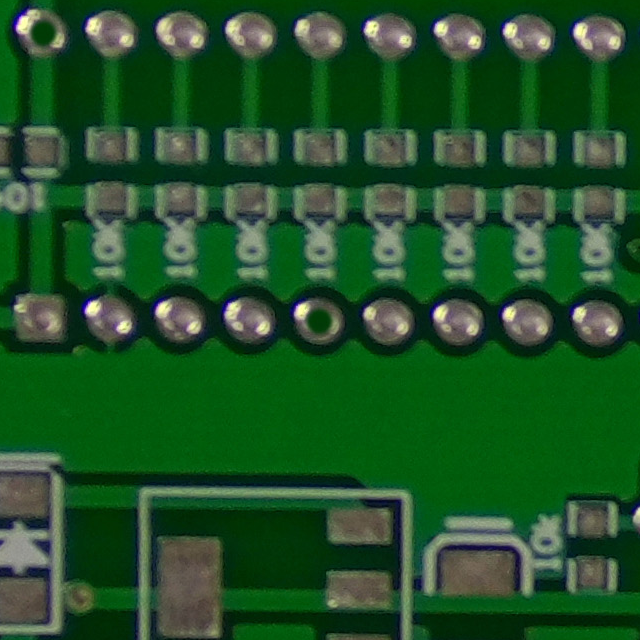missing_hole: (291, 286, 350, 354), (13, 4, 71, 64)
